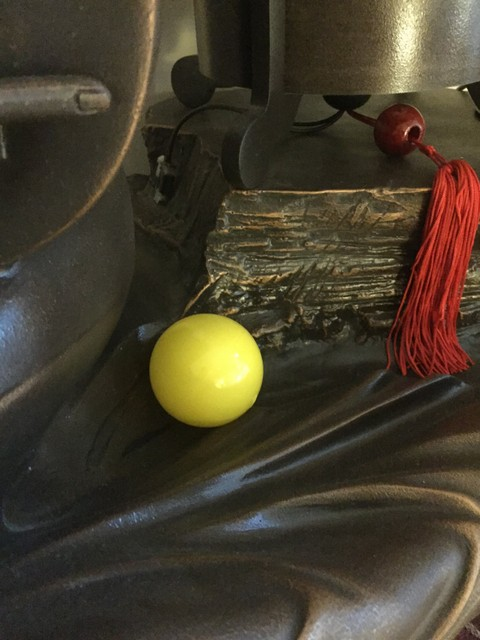ball: (149, 312, 265, 428)
